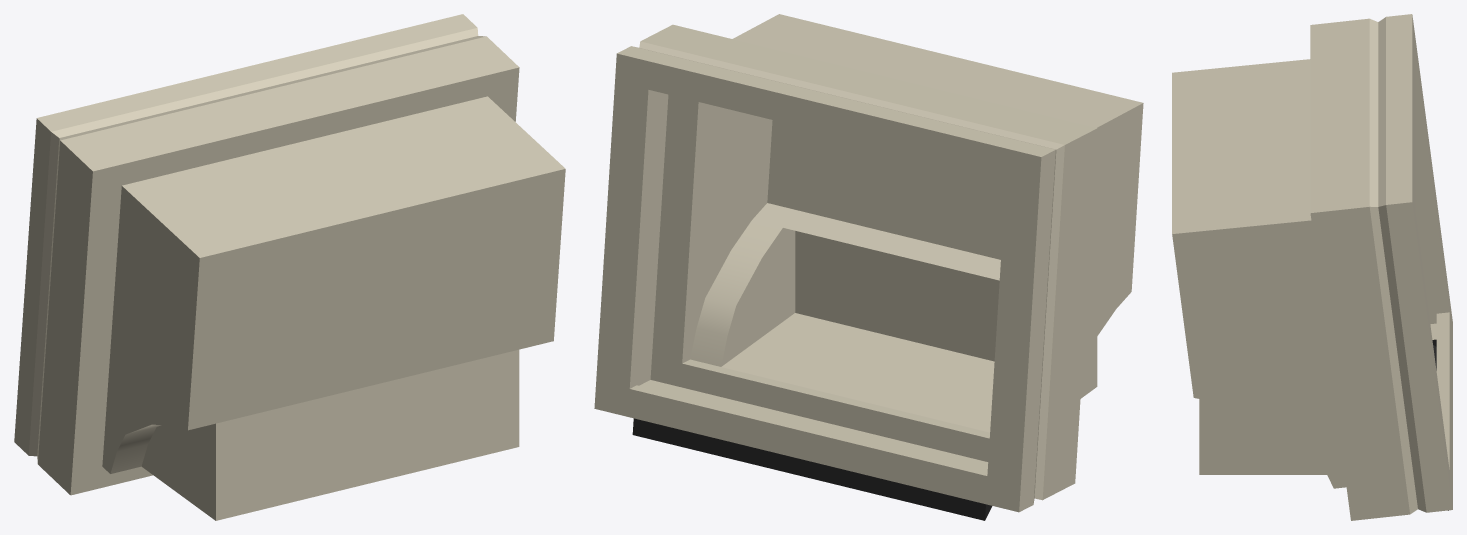
The picture shows the model from 3 angles, left to right: view 1: azimuth 30°, elevation 25°; view 2: azimuth 150°, elevation 25°; view 3: azimuth 270°, elevation 25°; orthographic projection. The views are drawn at different scales.
Parts seen in each view (by area): view 1: Cube.001; view 2: Cube.001; view 3: Cube.001.
Part boxes in pixels (x1,y1,x2,y2): Cube.001: (14,14,565,520); Cube.001: (594,14,1143,520); Cube.001: (1172,14,1452,520).
Bounding box in the file's own units: 2.6 × 2.1 × 1.64.
